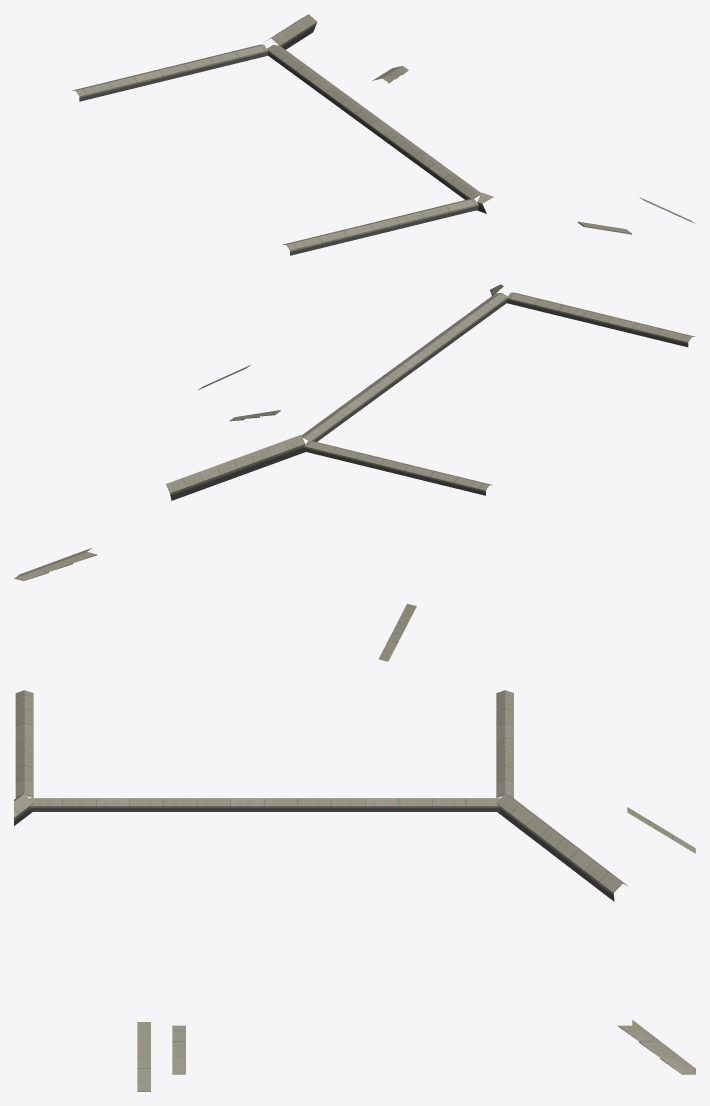
The model's file is kd_stage_135c43_4_94_bounded.glb.
3 renders of one model, top to bottom at view 1: azimuth 30°, elevation 25°; view 2: azimuth 150°, elevation 25°; view 3: azimuth 270°, elevation 25°, orthographic. The views are drawn at different scales.
Visible parts, largest first — view 1: kd_stage_135c43_4_94_bounded; view 2: kd_stage_135c43_4_94_bounded; view 3: kd_stage_135c43_4_94_bounded.
Boxes of the visible parts, bbox=[...] form: kd_stage_135c43_4_94_bounded: bbox=[72, 14, 694, 255]; kd_stage_135c43_4_94_bounded: bbox=[14, 284, 695, 661]; kd_stage_135c43_4_94_bounded: bbox=[14, 690, 695, 1091].
Bounding box in the file's own units: 6.68 × 1.97 × 7.52.
1 material, 1 textured.
